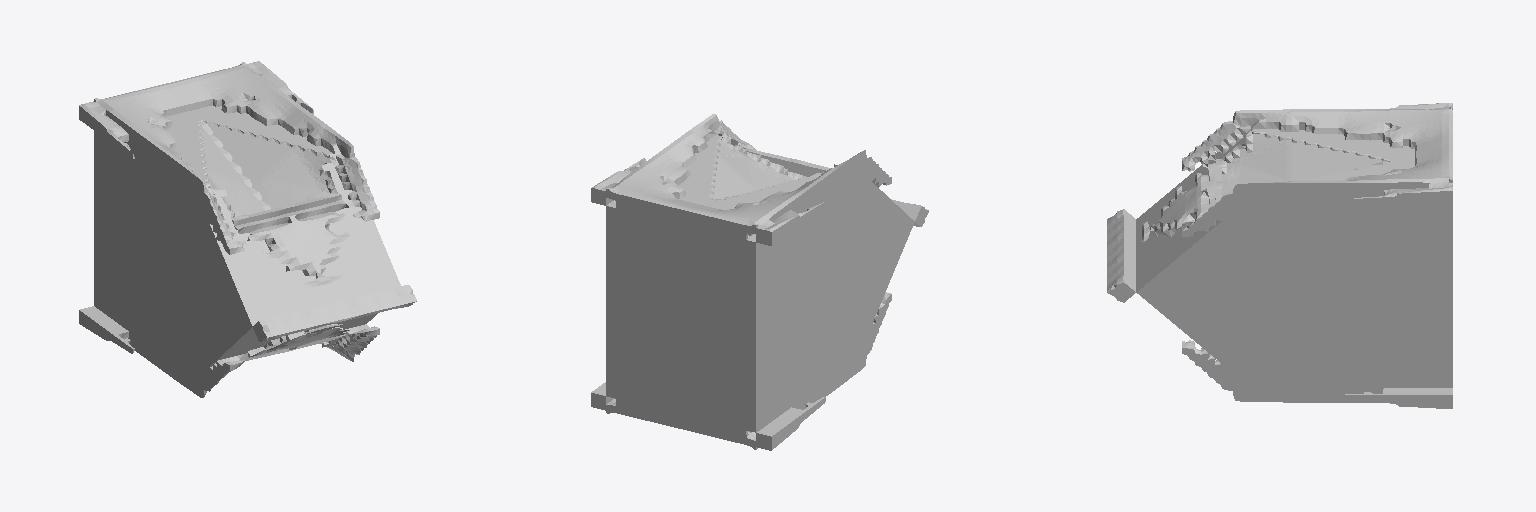
Rendered from maison_destroy.obj.
3 renders of one model, left to right at view 1: azimuth 30°, elevation 25°; view 2: azimuth 150°, elevation 25°; view 3: azimuth 270°, elevation 25°, orthographic.
Visible parts, largest first — view 1: object_1.007; view 2: object_1.007; view 3: object_1.007.
Part boxes in pixels (x1,y1,x2,y2): object_1.007: (79, 61, 416, 397); object_1.007: (591, 114, 928, 450); object_1.007: (1107, 103, 1452, 408).
Bounding box in the file's own units: 13.87 × 16.47 × 23.05.